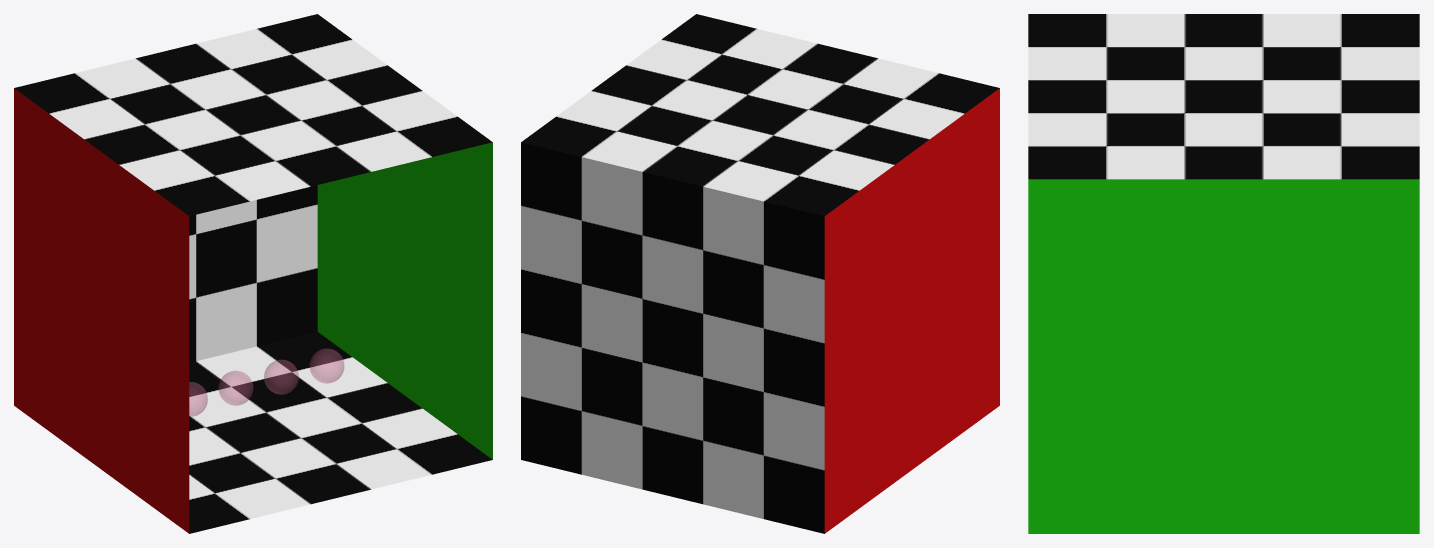
The model's file is ior.glb.
3 renders of one model, left to right at view 1: azimuth 30°, elevation 25°; view 2: azimuth 150°, elevation 25°; view 3: azimuth 270°, elevation 25°, orthographic. The views are drawn at different scales.
Parts seen in each view (by area): view 1: Plane.003, Plane.001, Plane.004, Plane.002, Plane, Sphere.003, Sphere, Sphere.004; view 2: Plane, Plane.003, Plane.001; view 3: Plane.004, Plane.001.
Boxes of the visible parts, bbox=[...] form: Plane.003: bbox=[14, 88, 189, 533]; Plane.001: bbox=[14, 14, 492, 216]; Plane.004: bbox=[317, 142, 492, 459]; Plane.002: bbox=[189, 331, 492, 533]; Plane: bbox=[189, 185, 317, 362]; Sphere.003: bbox=[264, 360, 298, 394]; Sphere: bbox=[218, 371, 252, 405]; Sphere.004: bbox=[310, 349, 344, 383]; Plane: bbox=[521, 142, 824, 533]; Plane.003: bbox=[824, 88, 999, 533]; Plane.001: bbox=[521, 14, 999, 216]; Plane.004: bbox=[1028, 179, 1419, 533]; Plane.001: bbox=[1028, 14, 1419, 179].
Size of the model in its own units: 20 by 20 by 20.
9 materials, 1 textured.
